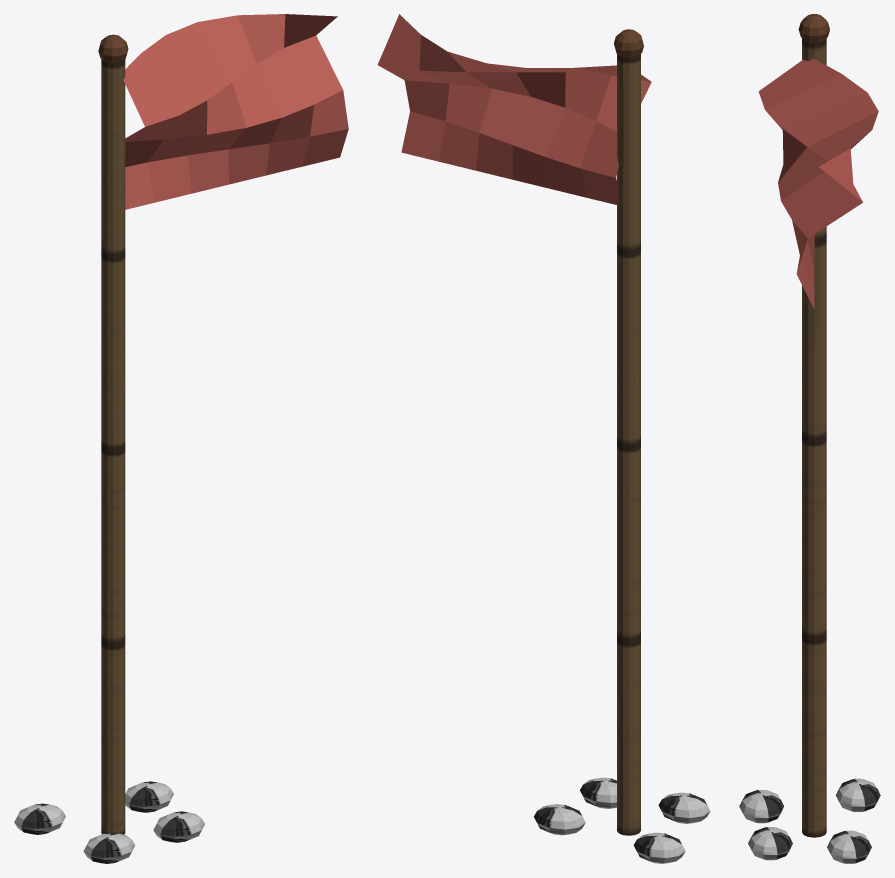
The model's file is san-dinh-cot-co-lon.glb.
3 views of the same model, side by side, from view 1: azimuth 30°, elevation 25°; view 2: azimuth 150°, elevation 25°; view 3: azimuth 270°, elevation 25° (orthographic). The views are drawn at different scales.
Parts seen in each view (by area): view 1: san-dinh-cot-co-lon; view 2: san-dinh-cot-co-lon; view 3: san-dinh-cot-co-lon.
Part boxes in pixels (x1,y1,x2,y2): san-dinh-cot-co-lon: (14,14,348,863); san-dinh-cot-co-lon: (377,14,710,863); san-dinh-cot-co-lon: (739,14,880,863).
Size of the model in its own units: 2.03 by 5.15 by 0.806.
5 materials, 3 textured.
